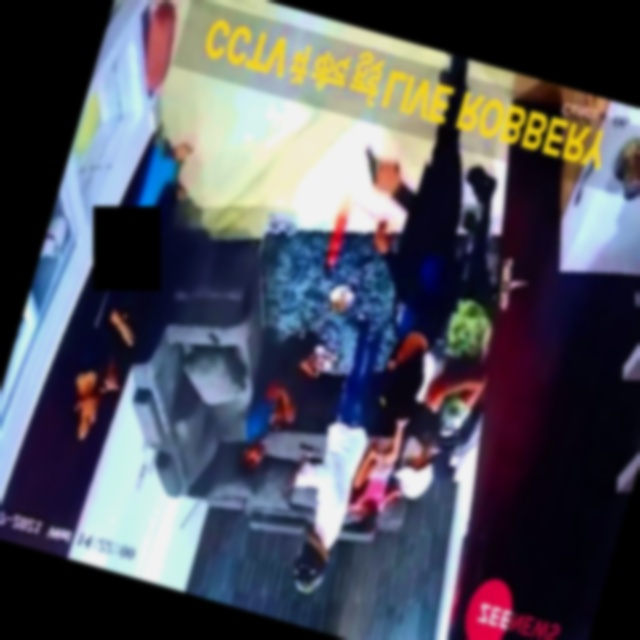gun: (354, 144, 404, 196)
